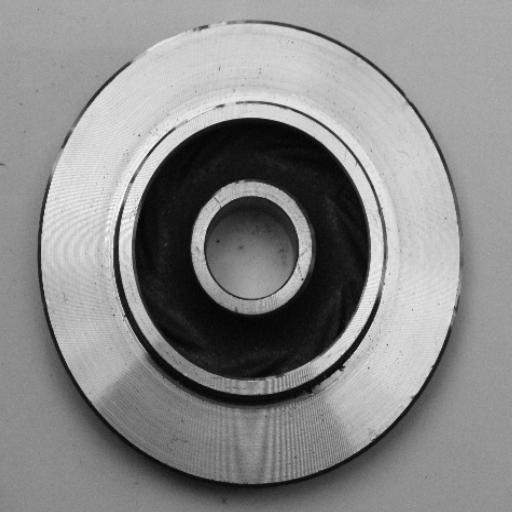crack: (297, 376, 328, 405), (328, 355, 360, 382)
scratch: (152, 94, 266, 137)
unpolished_casting: (34, 16, 464, 491)
